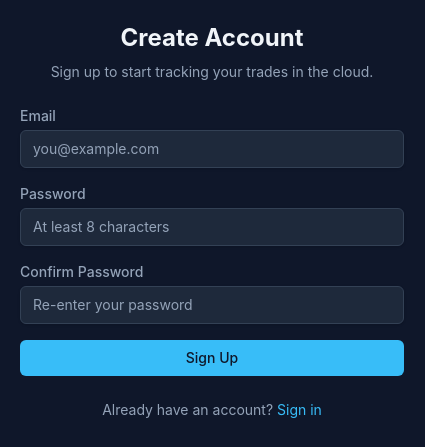
Scenario: SignupPage › shows validation error when password is too short
This screenshot has width=425, height=447.
Type "test@example.com" into the field labelled "Email" at (212, 149), box [20,130,404,168]
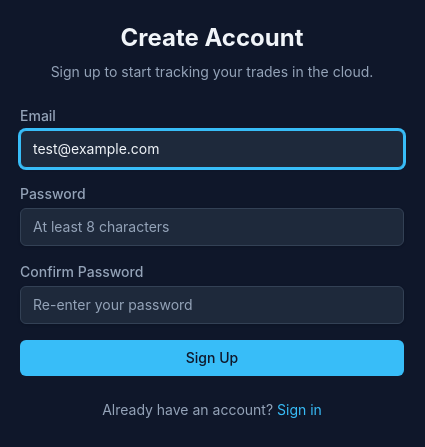
Type "short" into the password field labelled "Password" at (212, 227), box [20,208,404,246]
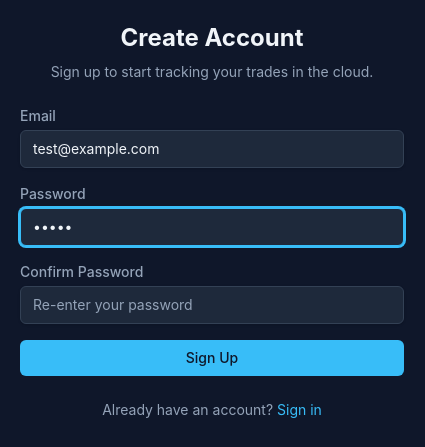
Type "short" into the password field labelled "Confirm Password" at (212, 305), box [20,286,404,324]
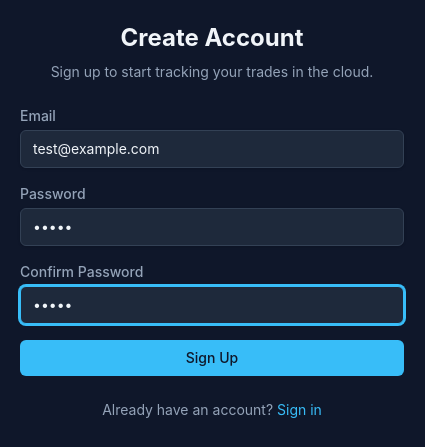
Click the button "Sign Up" at (212, 358), box [20,340,404,376]
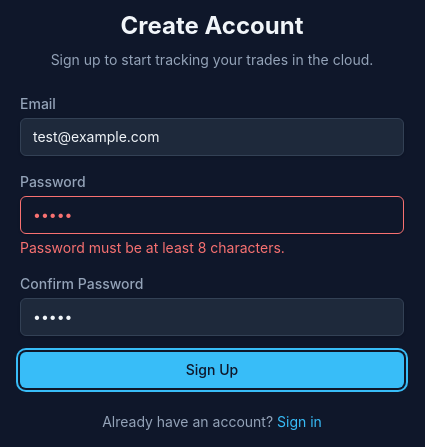
expect the text "Password must be at least 8 characters." is shown: met, box [20,239,285,256]
